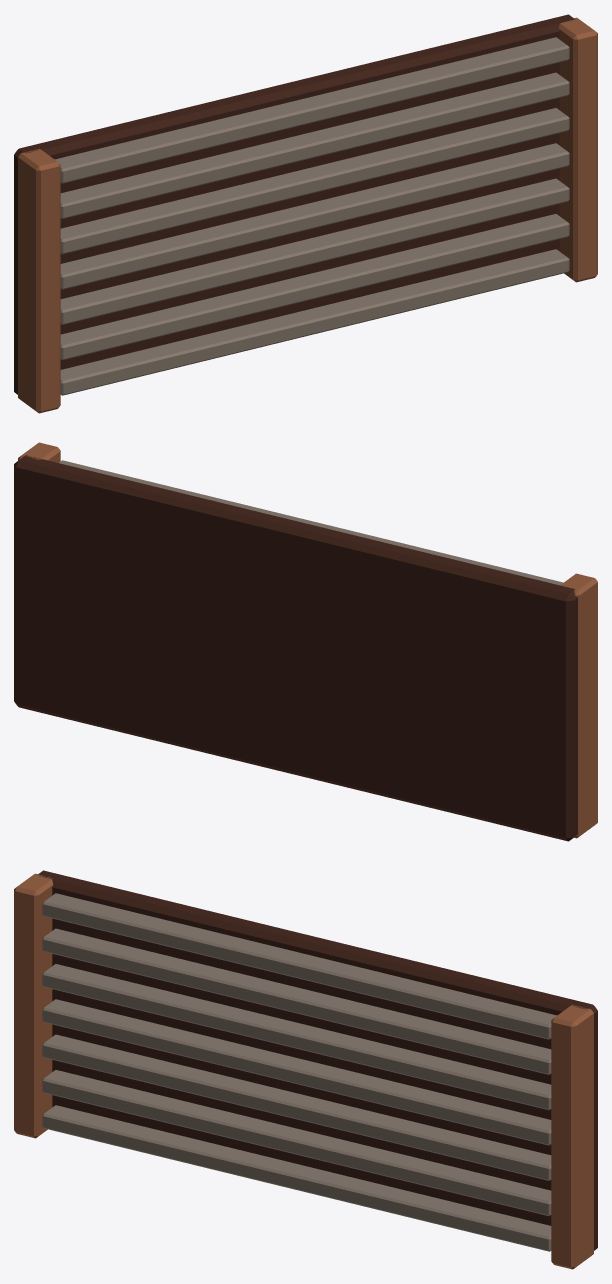
The model's file is vent_grille_02.glb.
3 renders of one model, top to bottom at view 1: azimuth 30°, elevation 25°; view 2: azimuth 150°, elevation 25°; view 3: azimuth 330°, elevation 25°, orthographic.
Parts seen in each view (by area): view 1: Recess, Louvre_006, Louvre, Louvre_003, Louvre_001, Louvre_004, Louvre_002, Louvre_005, Stile, Stile_001; view 2: Recess, Stile, Louvre_006, Stile_001; view 3: Recess, Louvre_006, Louvre, Louvre_003, Louvre_001, Louvre_004, Louvre_002, Louvre_005, Stile_001, Stile.
Part boxes in pixels (x1,y1,x2,y2): Recess: (14, 14, 575, 394); Louvre_006: (55, 37, 569, 183); Louvre: (60, 249, 569, 395); Louvre_003: (60, 143, 569, 289); Louvre_001: (60, 214, 569, 360); Louvre_004: (60, 108, 569, 254); Louvre_002: (60, 178, 569, 324); Louvre_005: (60, 72, 569, 218); Stile: (18, 148, 60, 413); Stile_001: (558, 17, 597, 282); Recess: (14, 455, 577, 841); Stile: (560, 573, 597, 838); Louvre_006: (59, 460, 563, 585); Stile_001: (18, 442, 60, 462); Recess: (37, 870, 597, 1250); Louvre_006: (42, 893, 556, 1039); Louvre: (42, 1105, 551, 1251); Louvre_003: (42, 999, 551, 1145); Louvre_001: (42, 1070, 551, 1216); Louvre_004: (42, 964, 551, 1110); Louvre_002: (42, 1034, 551, 1180); Louvre_005: (42, 928, 551, 1074); Stile_001: (551, 1004, 593, 1269); Stile: (14, 873, 53, 1138).
Size of the model in its own units: 0.904 by 0.38 by 0.0775.
